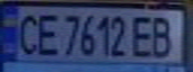1: (93, 11, 112, 57)
2: (109, 12, 130, 59)
6: (78, 11, 96, 56)
7: (57, 10, 81, 56)
B: (145, 12, 181, 60)
C: (9, 9, 42, 56)
E: (30, 9, 63, 57), (127, 12, 160, 59)
